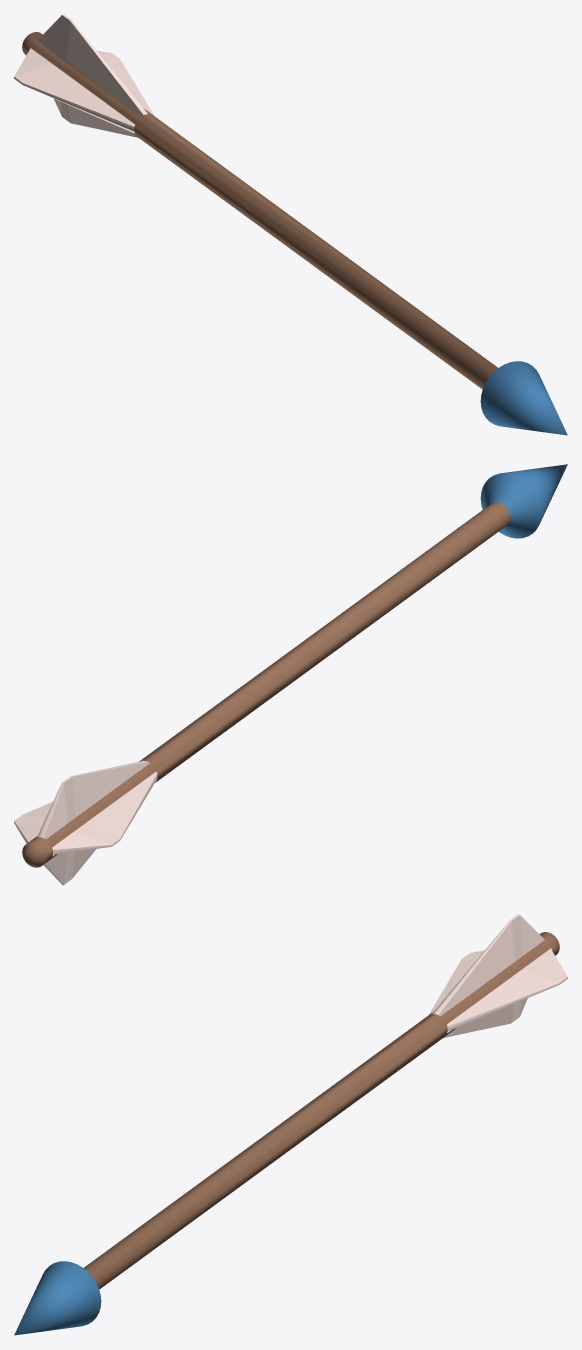
File: Arrow.fbx
The picture shows the model from 3 angles, top to bottom: view 1: azimuth 30°, elevation 25°; view 2: azimuth 150°, elevation 25°; view 3: azimuth 330°, elevation 25°; orthographic projection.
Visible parts, largest first — view 1: Cylinder; view 2: Cylinder; view 3: Cylinder.
Part boxes in pixels (left/top/right/bottom): Cylinder: left=14, top=14, right=567, bottom=435; Cylinder: left=14, top=464, right=567, bottom=885; Cylinder: left=14, top=914, right=567, bottom=1335.
Size of the model in its own units: 0.4201 by 0.4226 by 4.
